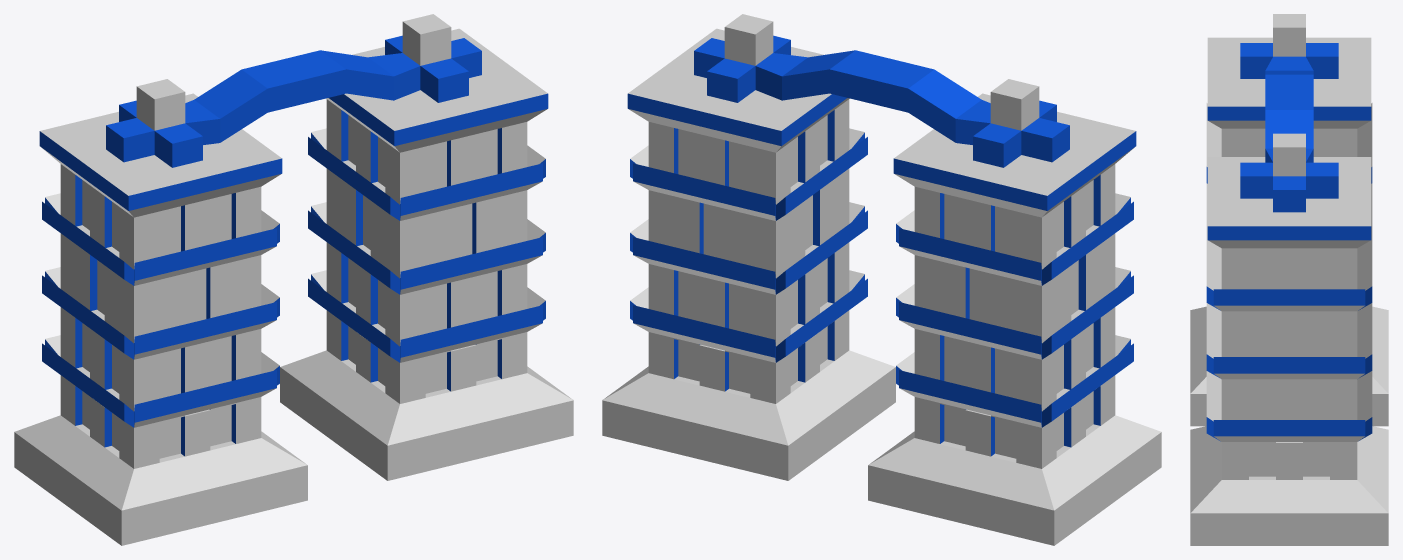
The model's file is UnderseaApartment_Higher.fbx.
3 renders of one model, left to right at view 1: azimuth 30°, elevation 25°; view 2: azimuth 150°, elevation 25°; view 3: azimuth 270°, elevation 25°, orthographic. The views are drawn at different scales.
Visible parts, largest first — view 1: UnderseaApartment_Higher; view 2: UnderseaApartment_Higher; view 3: UnderseaApartment_Higher.
Part boxes in pixels (x1=…): UnderseaApartment_Higher: x1=14, y1=14, x2=573, y2=545; UnderseaApartment_Higher: x1=602, y1=14, x2=1161, y2=545; UnderseaApartment_Higher: x1=1190, y1=14, x2=1388, y2=545.
Bounding box in the file's own units: 170 × 142 × 70.
